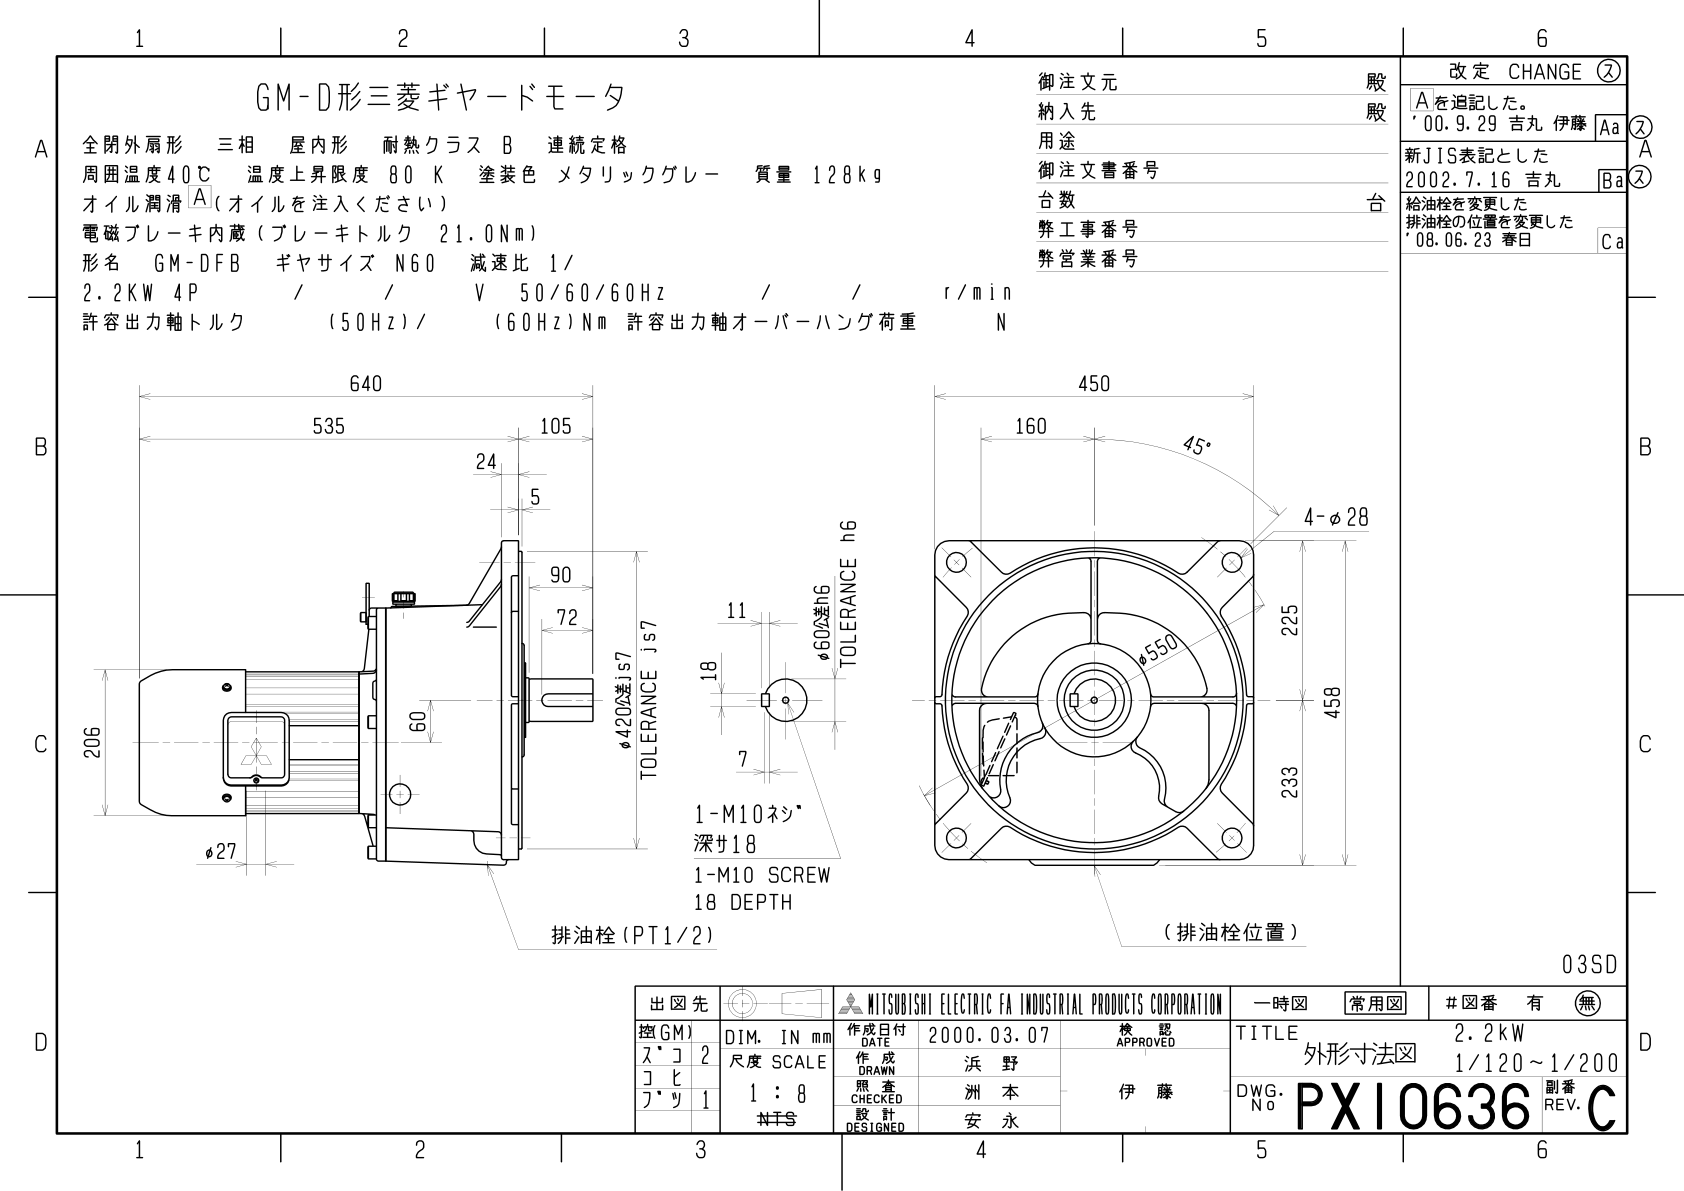GM_D_屋内＿三相_フランジ: (63, 351, 1397, 951)
